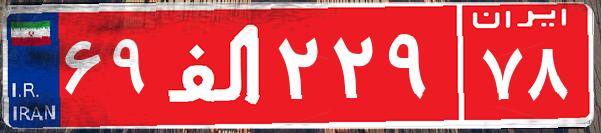2: (273, 28, 330, 110), (330, 28, 385, 110)
6: (57, 26, 110, 107)
7: (475, 38, 525, 113)
8: (525, 38, 570, 115)
9: (385, 28, 445, 110), (110, 28, 158, 105)
الف: (158, 15, 273, 115)
